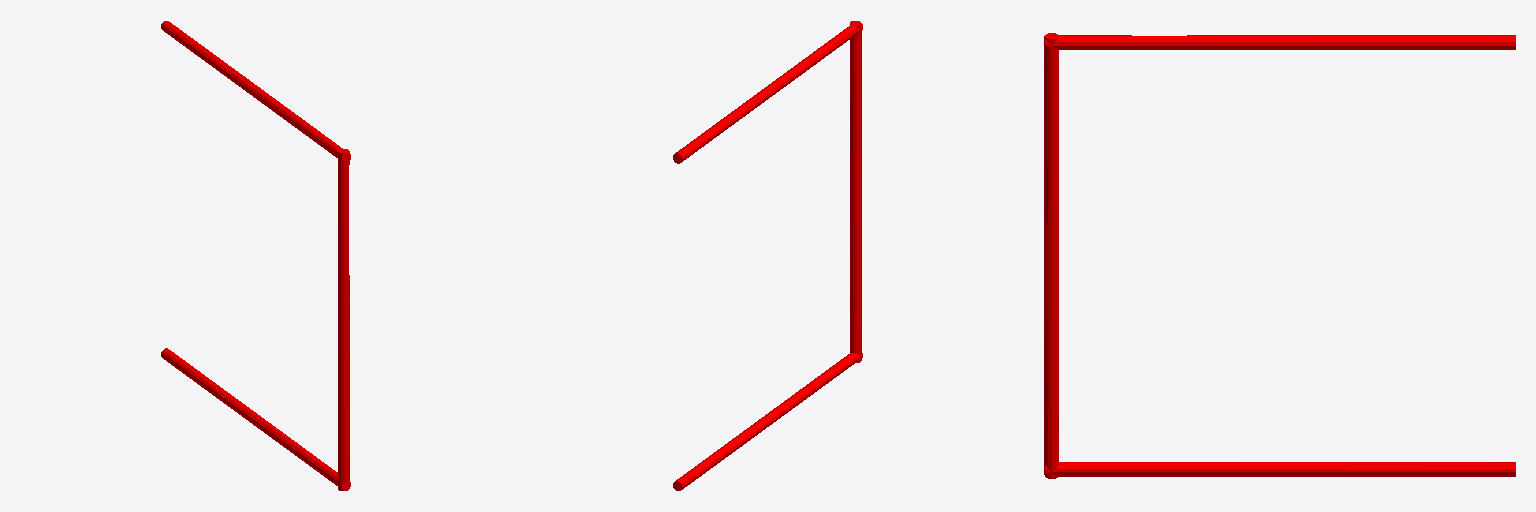
robot.urdf — qual_gate:
<robot
  name="qual_gate">
  <link
    name="qual_gate">
    <inertial>
      <origin
        xyz="2.3965E-07 -1.3189 1.0005"
        rpy="0 0 0" />
      <mass
        value="18.875" />
      <inertia
        ixx="22.8065287480022"
        ixy="-0.000111681399767615"
        ixz="-0.000119421608847911"
        iyy="14.6642752487651"
        iyz="0.00211707599867418"
        izz="8.15176829177702" />
    </inertial>
    <visual>
      <origin
        xyz="0 0 0"
        rpy="1.5707963267949 0 0" />
      <geometry>
        <mesh
          filename="package://qual_gate/meshes/qual_gate.dae" />
      </geometry>
      <material
        name="">
        <color
          rgba="1 0 0 1" />
      </material>
    </visual>
    <collision>
      <origin
        xyz="0 0 0"
        rpy="1.5707963267949 0 0" />
      <geometry>
        <mesh
          filename="package://qual_gate/meshes/qual_gate.STL" />
      </geometry>
    </collision>
  </link>
  <gazebo>
    <static>true</static>
  </gazebo>
</robot>

--- Render facts (derived) ---
3 views of the same robot in one strip: view 1: azimuth 30°, elevation 25°; view 2: azimuth 150°, elevation 25°; view 3: azimuth 270°, elevation 25° (orthographic).
Robot: qual_gate — 1 links, 0 joints (none); root link qual_gate; default pose: every joint at zero.
Links seen in each view (by area): view 1: qual_gate; view 2: qual_gate; view 3: qual_gate.
Boxes of the visible links, x1,y1,x2,y2 form: qual_gate: (161,21,350,490); qual_gate: (673,21,862,490); qual_gate: (1044,33,1515,478).
Bounding box of the posed robot: 0.0635 × 2 × 2.06 m (x, y, z).
1 mesh visuals loaded from 1 distinct referenced files (1 Collada DAE).
